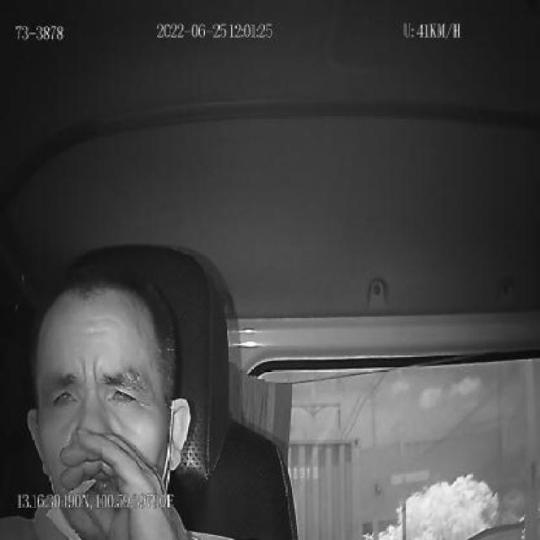smoking: (62, 476, 99, 504)
